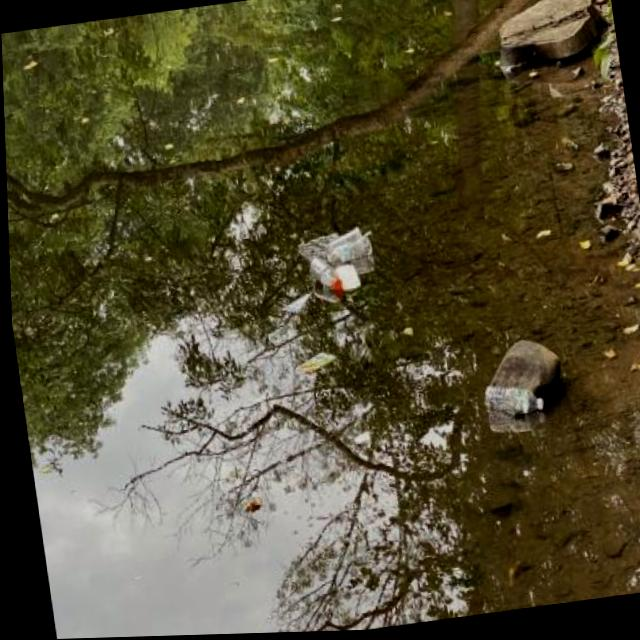Cardboard: (287, 346, 337, 381)
Paper: (312, 262, 360, 299)
Plastic: (468, 373, 546, 439), (291, 224, 372, 271)
